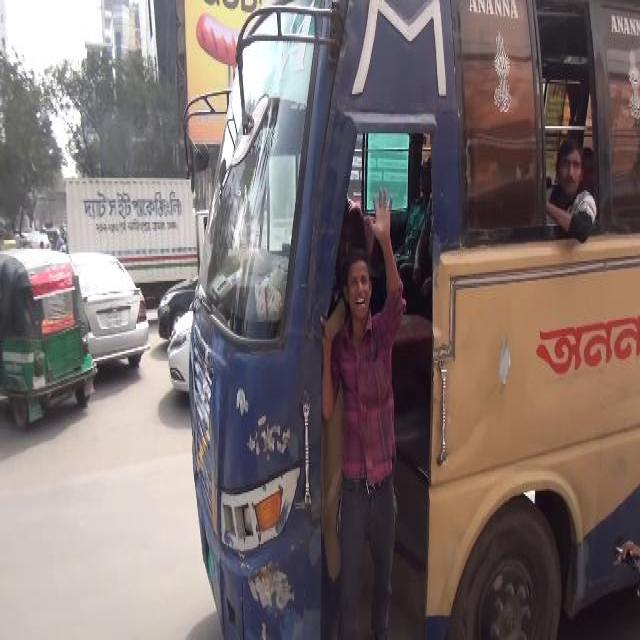bus: (186, 0, 639, 636)
car: (64, 244, 150, 374), (156, 268, 202, 334), (165, 307, 197, 401)
pickup: (63, 175, 214, 298)
three wheelers -CNG-: (1, 240, 94, 421)
